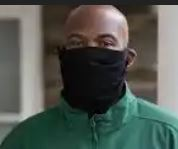with_facemask: (62, 45, 124, 107)
